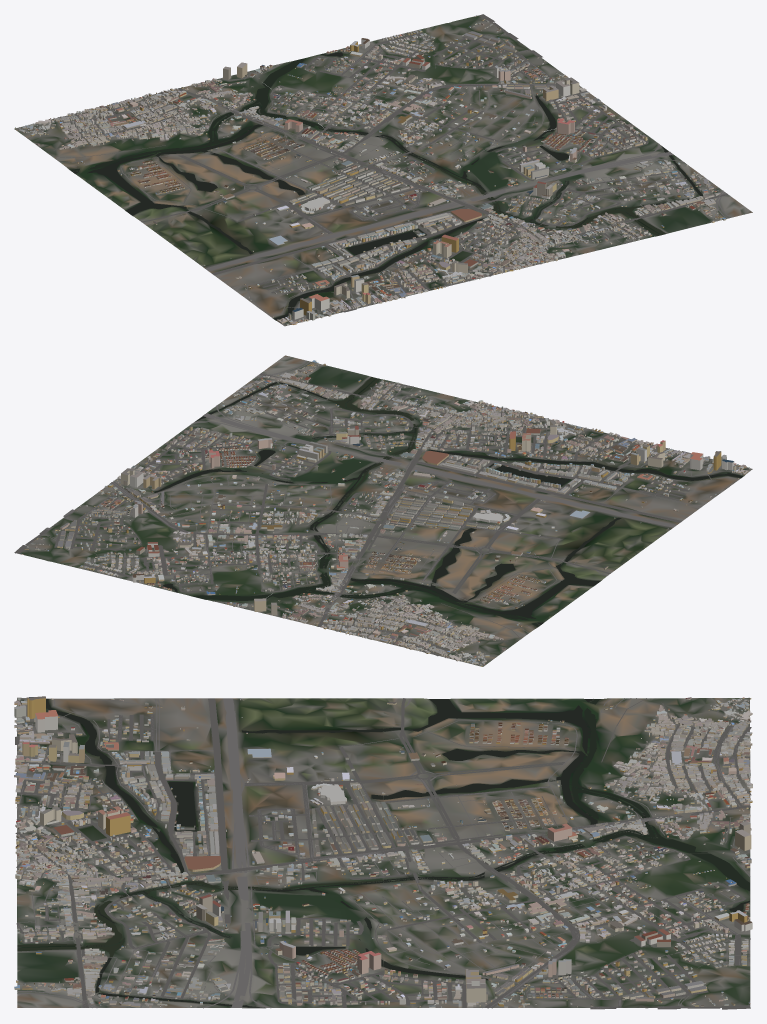
The picture shows the model from 3 angles, top to bottom: view 1: azimuth 30°, elevation 25°; view 2: azimuth 150°, elevation 25°; view 3: azimuth 270°, elevation 25°; orthographic projection. The views are drawn at different scales.
Visible parts, largest first — view 1: ground, buildings, roads, water; view 2: ground, buildings, roads, water; view 3: ground, buildings, roads, water.
Boxes of the visible parts, x1,y1,x2,y2 form: ground: (14, 15, 752, 326); buildings: (15, 15, 726, 325); roads: (21, 14, 731, 320); water: (69, 52, 702, 320); ground: (18, 355, 752, 666); buildings: (21, 360, 749, 666); roads: (14, 360, 740, 664); water: (154, 377, 742, 627); ground: (17, 697, 750, 1008); buildings: (14, 696, 752, 1007); roads: (15, 698, 751, 1009); water: (17, 698, 749, 1007).
Size of the model in its own units: 2817 by 86.17 by 2823.
